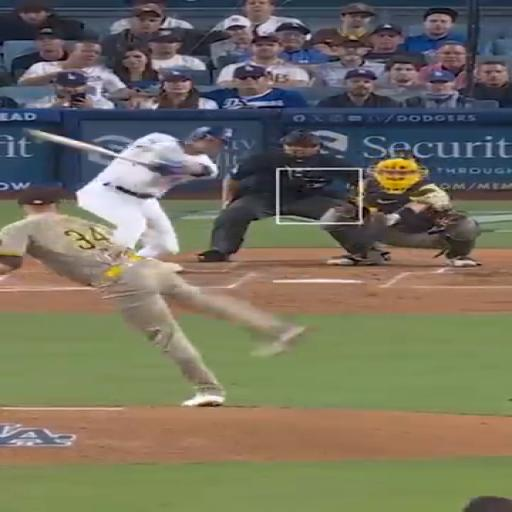bat: (26, 129, 146, 164)
